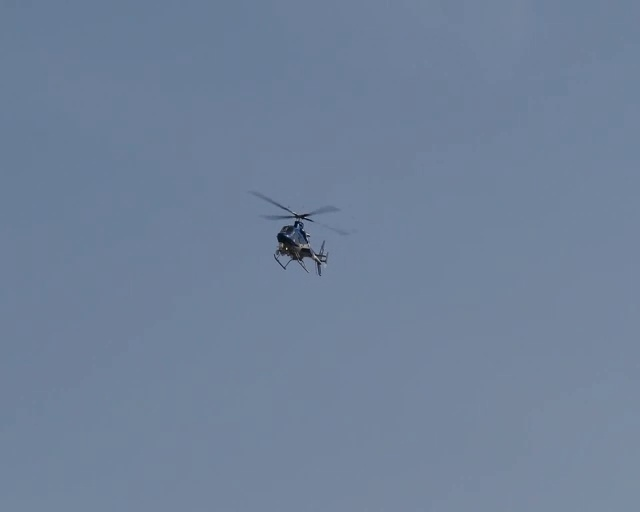HELICOPTER: (249, 188, 355, 276)
